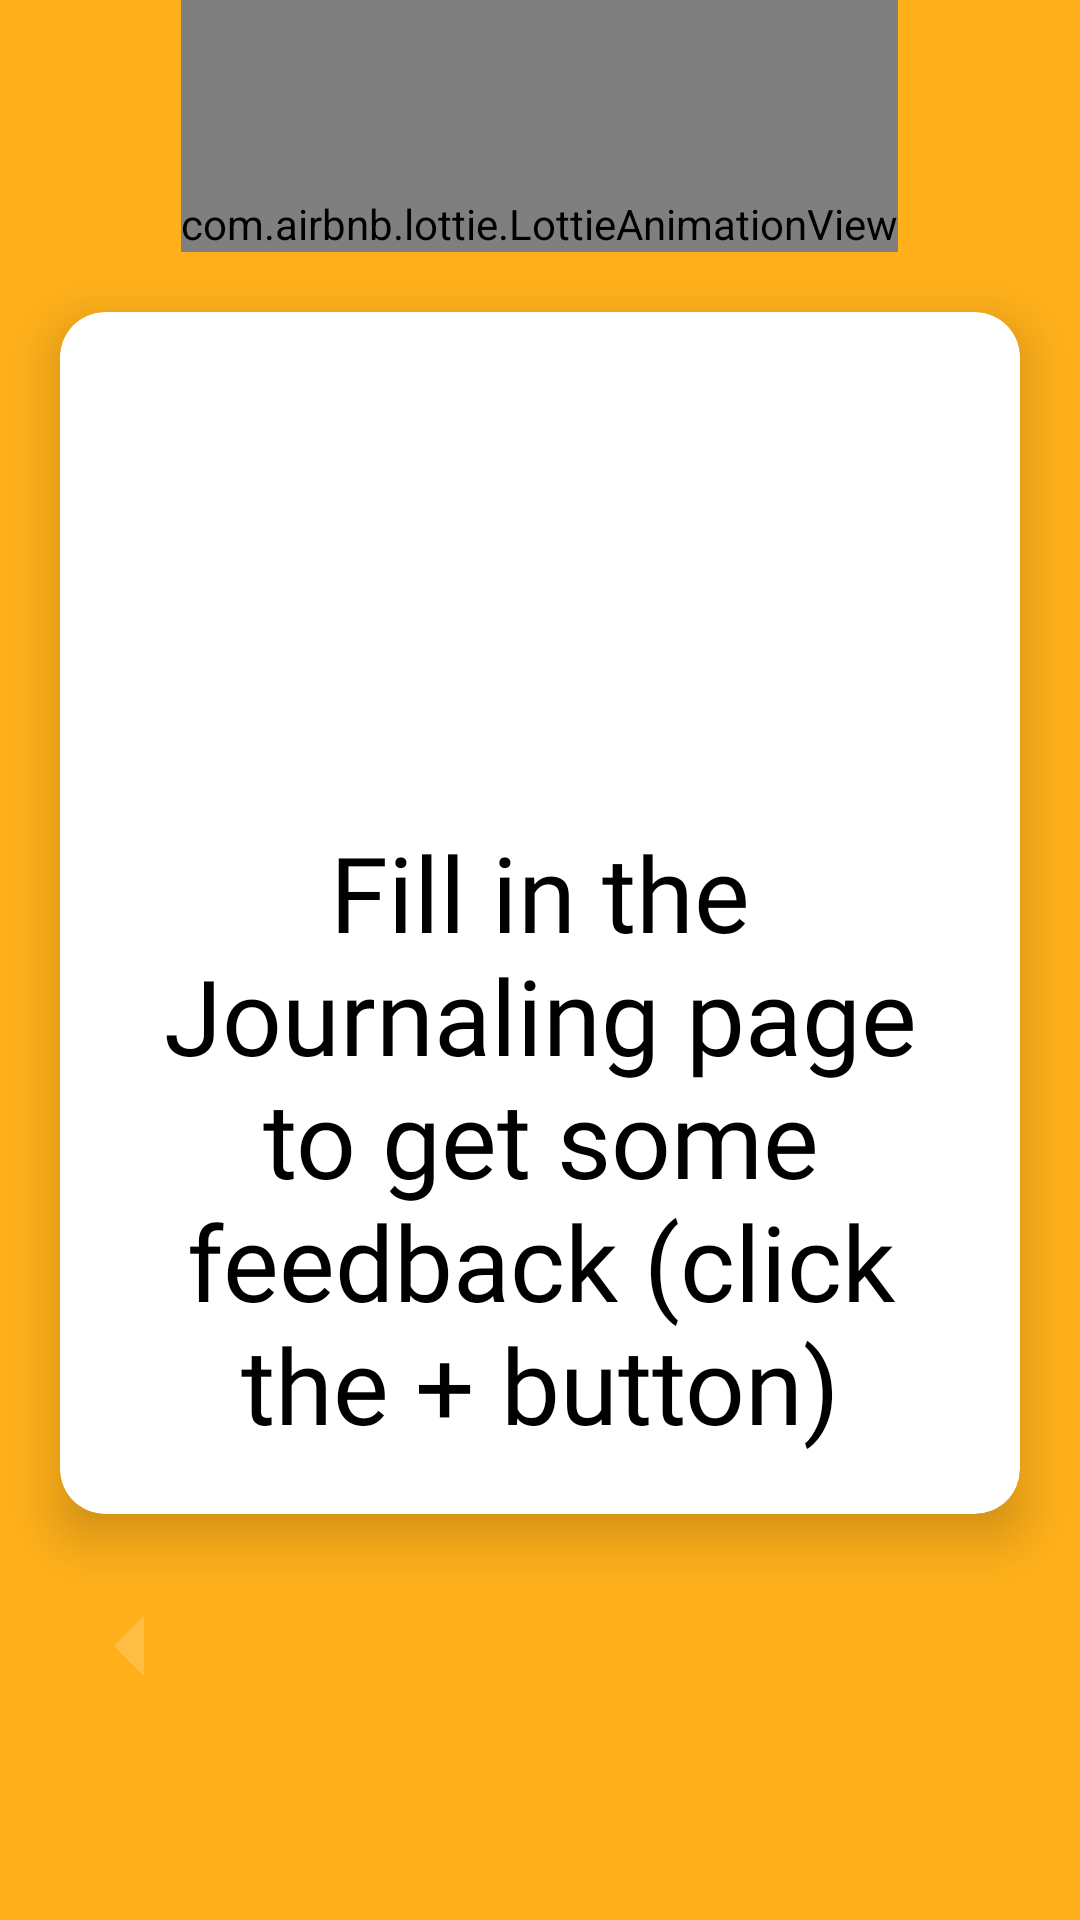

Icons on this 1080x1920 Android screen, each with the point to tap as (x=x, y=y):
arrow left: (x=129, y=1646)
